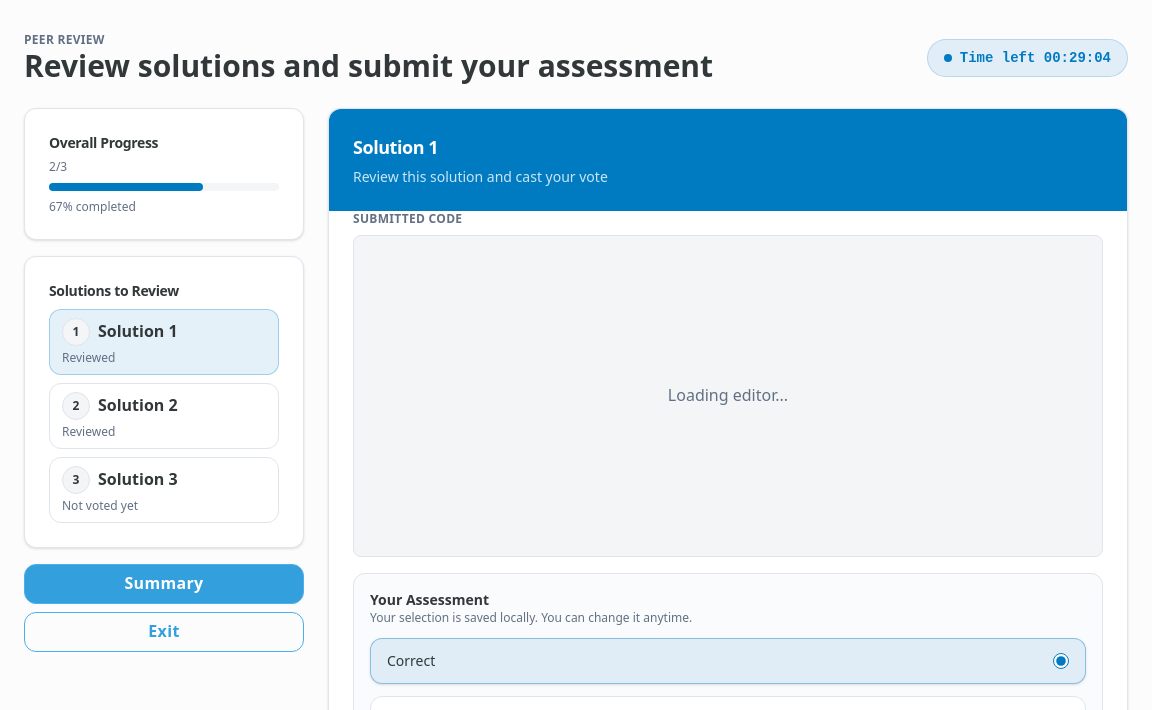
Test: Peer Review Exit Functionality › Confirmation dialog displays correct vote counts and summary › displays correct vote counts in confirmation dialog
The image size is (1152, 710).
Step 1. Click the button "Exit" → [164, 632], box [24, 612, 304, 652]
(page scrolled)
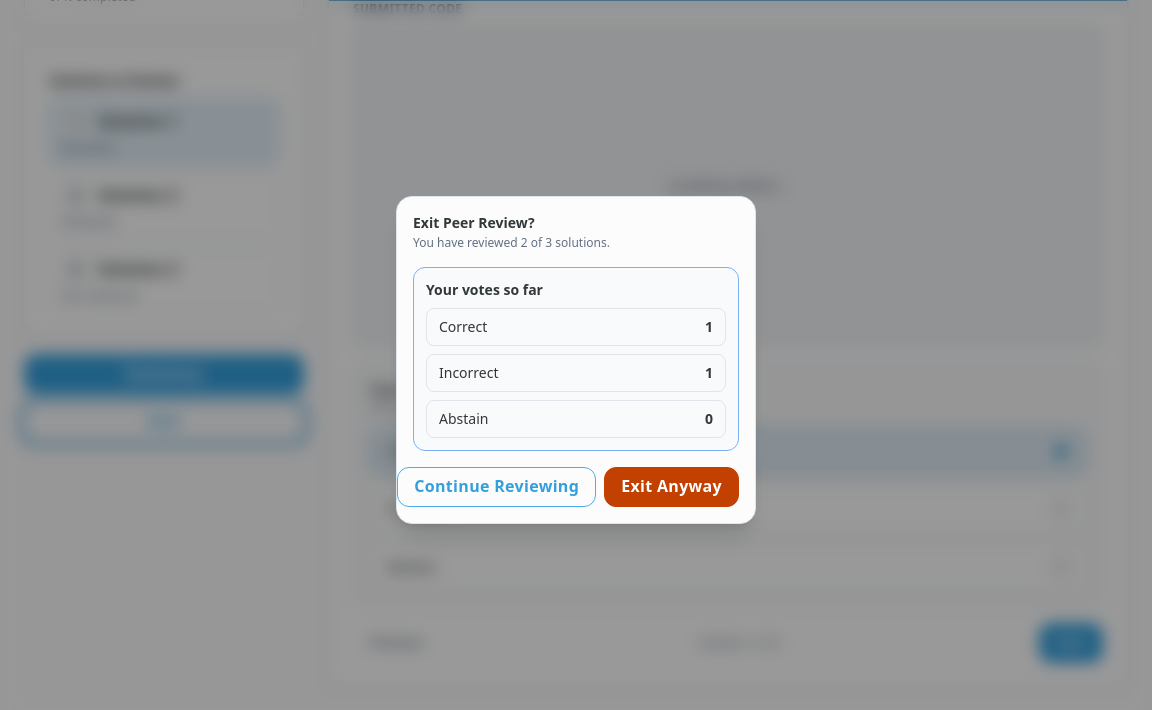
Now the text "Exit Peer Review?" is shown, box [413, 213, 535, 232]
Now the text "You have reviewed 2 of 3 solutions." is shown, box [413, 235, 610, 251]
Now the text "Your votes so far" is shown, box [426, 280, 543, 299]
